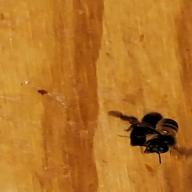Bee: (114, 110, 192, 160)
